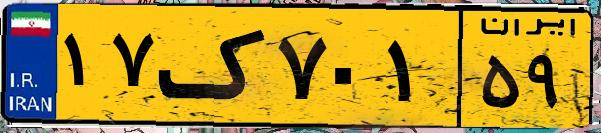0: (330, 28, 385, 110)
1: (385, 28, 445, 110), (57, 26, 110, 100)
5: (475, 38, 525, 113)
7: (270, 28, 330, 110), (110, 28, 158, 98)
9: (525, 38, 570, 115)
ک: (158, 12, 270, 120)
